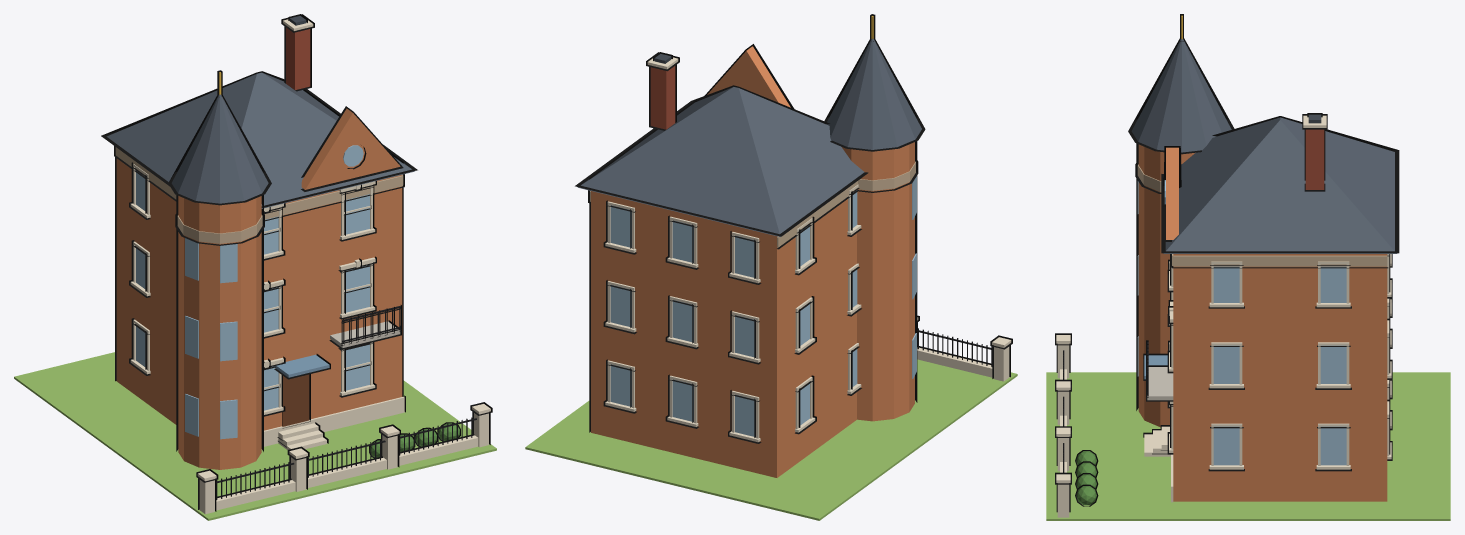
File: Konut_villa_artnouveau.fbx
3 views of the same model, side by side, from view 1: azimuth 30°, elevation 25°; view 2: azimuth 150°, elevation 25°; view 3: azimuth 270°, elevation 25° (orthographic). The views are drawn at different scales.
Visible parts, largest first — view 1: Konut_villa_artnouveau; view 2: Konut_villa_artnouveau; view 3: Konut_villa_artnouveau.
Boxes of the visible parts, x1,y1,x2,y2 form: Konut_villa_artnouveau: (14, 14, 496, 520); Konut_villa_artnouveau: (525, 14, 1017, 520); Konut_villa_artnouveau: (1046, 14, 1450, 520).
Bounding box in the file's own units: 12 × 15.22 × 14.
